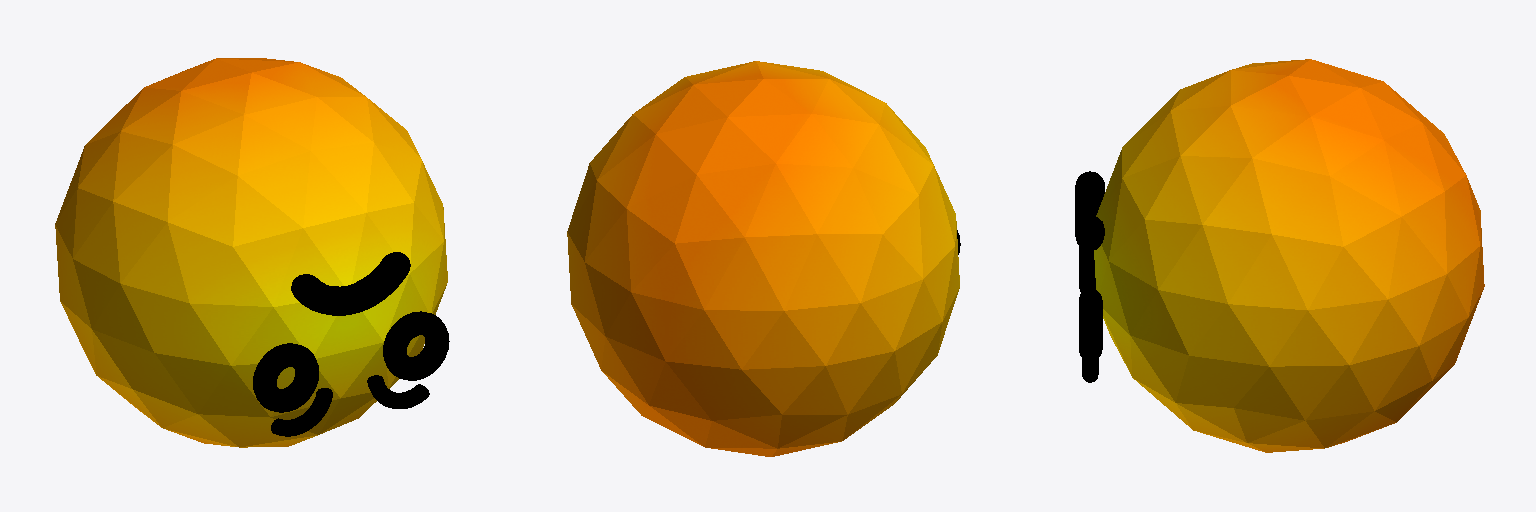
3 views of the same model, side by side, from view 1: azimuth 30°, elevation 25°; view 2: azimuth 150°, elevation 25°; view 3: azimuth 270°, elevation 25° (orthographic).
Visible parts, largest first — view 1: GeoSphere007, Torus015, Capsule006, Capsule007; view 2: GeoSphere007; view 3: GeoSphere007, Torus015, Capsule006.
Part boxes in pixels (bbox=[...]): GeoSphere007: bbox=[55, 58, 447, 447]; Torus015: bbox=[253, 311, 449, 412]; Capsule006: bbox=[291, 252, 410, 315]; Capsule007: bbox=[271, 375, 429, 436]; GeoSphere007: bbox=[567, 61, 959, 456]; GeoSphere007: bbox=[1094, 59, 1484, 452]; Torus015: bbox=[1079, 246, 1102, 360]; Capsule006: bbox=[1075, 171, 1104, 250].
Bounding box in the file's own units: 34.35 × 34.95 × 35.96.
2 materials, 1 textured.